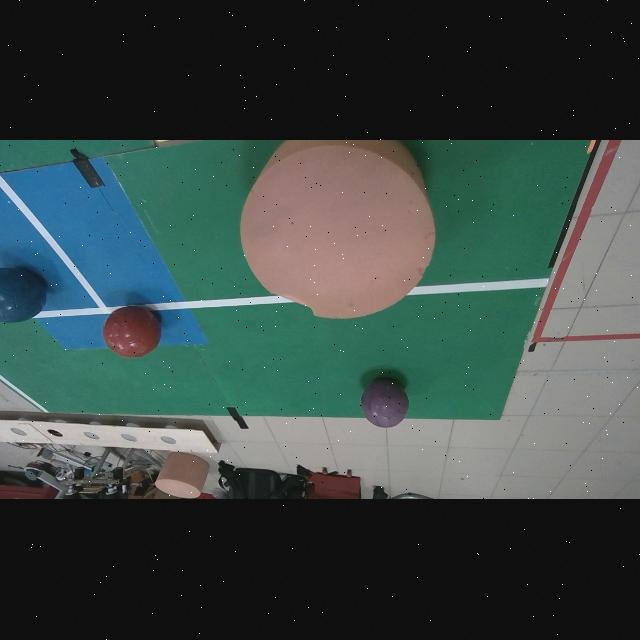B: (0, 268, 47, 324)
P: (362, 380, 408, 428)
R: (103, 306, 161, 358)
